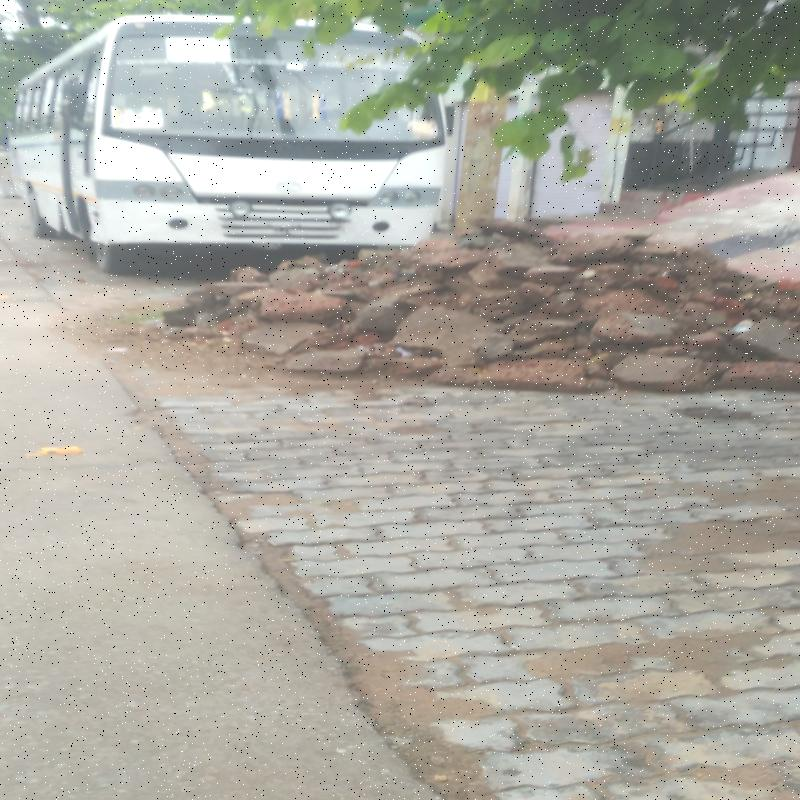bus: (73, 31, 458, 258)
